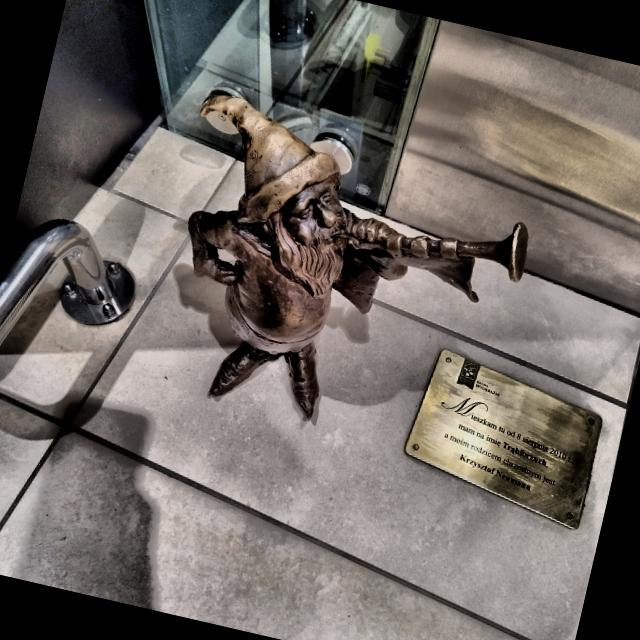Trabibrzuch: (187, 92, 527, 418)
